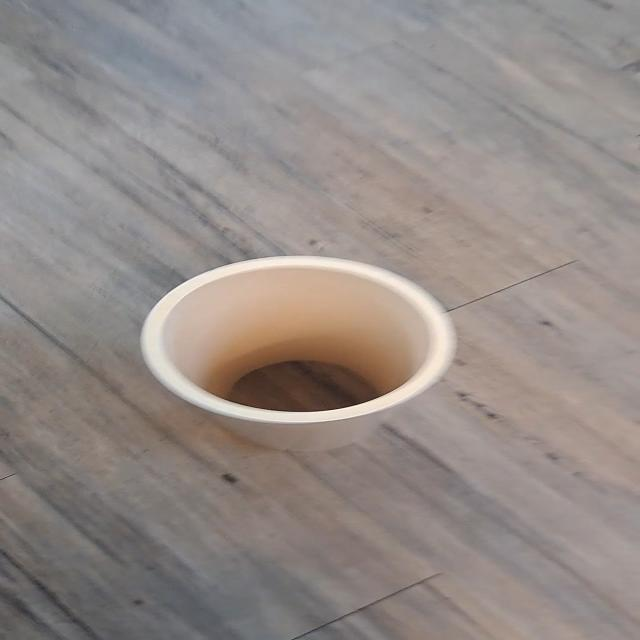CORAL: (125, 238, 457, 480)
